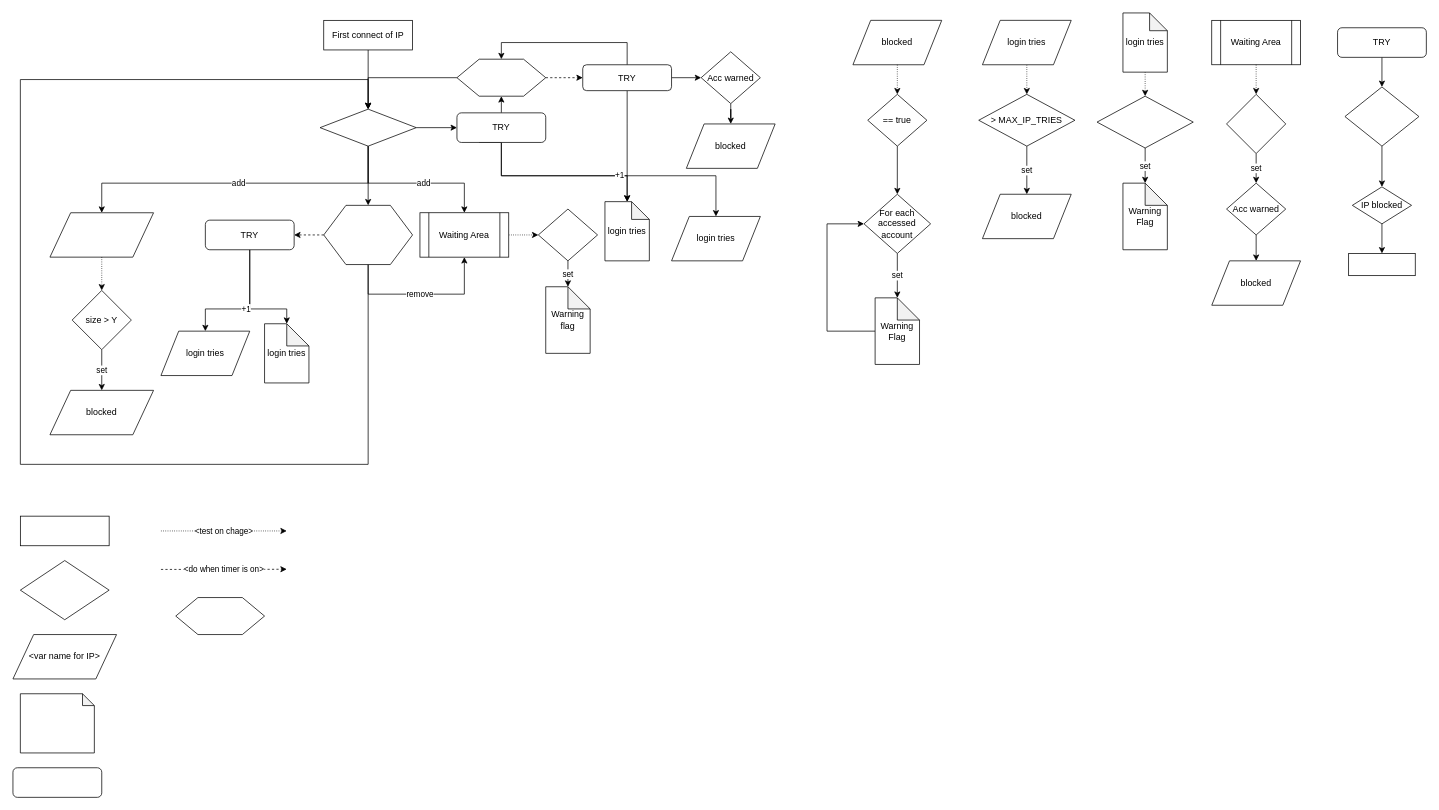
Image size: 1439x810. Some labels were removed from this diagram. Here are the shapes that lost their labels. From the top down, the centre of each, then its label:
At pixel 501 77: "Login delay".
At pixel 367 127: "X MAL".
At pixel 1144 121: "> MAX_ACC_TRIES".
At pixel 1256 124: "on add".
At pixel 1381 116: "on happening".
At pixel 101 234: "accessing account".
At pixel 368 235: "Area time".
At pixel 568 234: "size > Z".
At pixel 1381 264: "return false".
At pixel 64 530: "<Event/Action>".
At pixel 64 590: "Condition Loop Event".
At pixel 220 616: "<timer/delay>".
At pixel 57 723: "<var name for ACC>".
At pixel 57 782: "<wait for this>".
